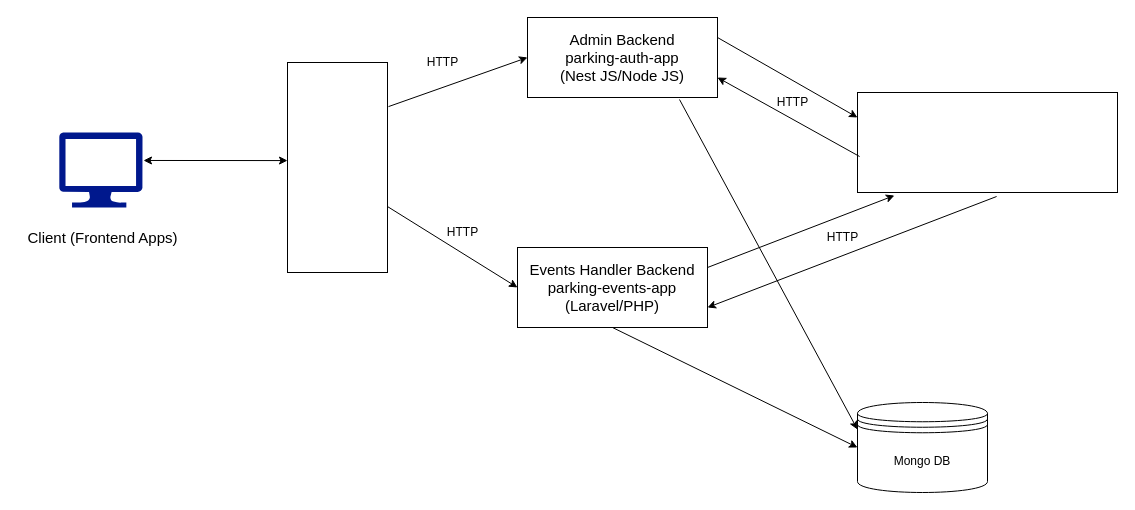
This 1135x510 diagram has some shape labels left out. Here are the shapes that lost their labels. From the top down, the centre of each, then its label:
the point at 987,142: Authentication Middleware Backend parking-auth-app (Nest JS/Node JS)
the point at 337,167: API GATEWAY (NGNIX)
